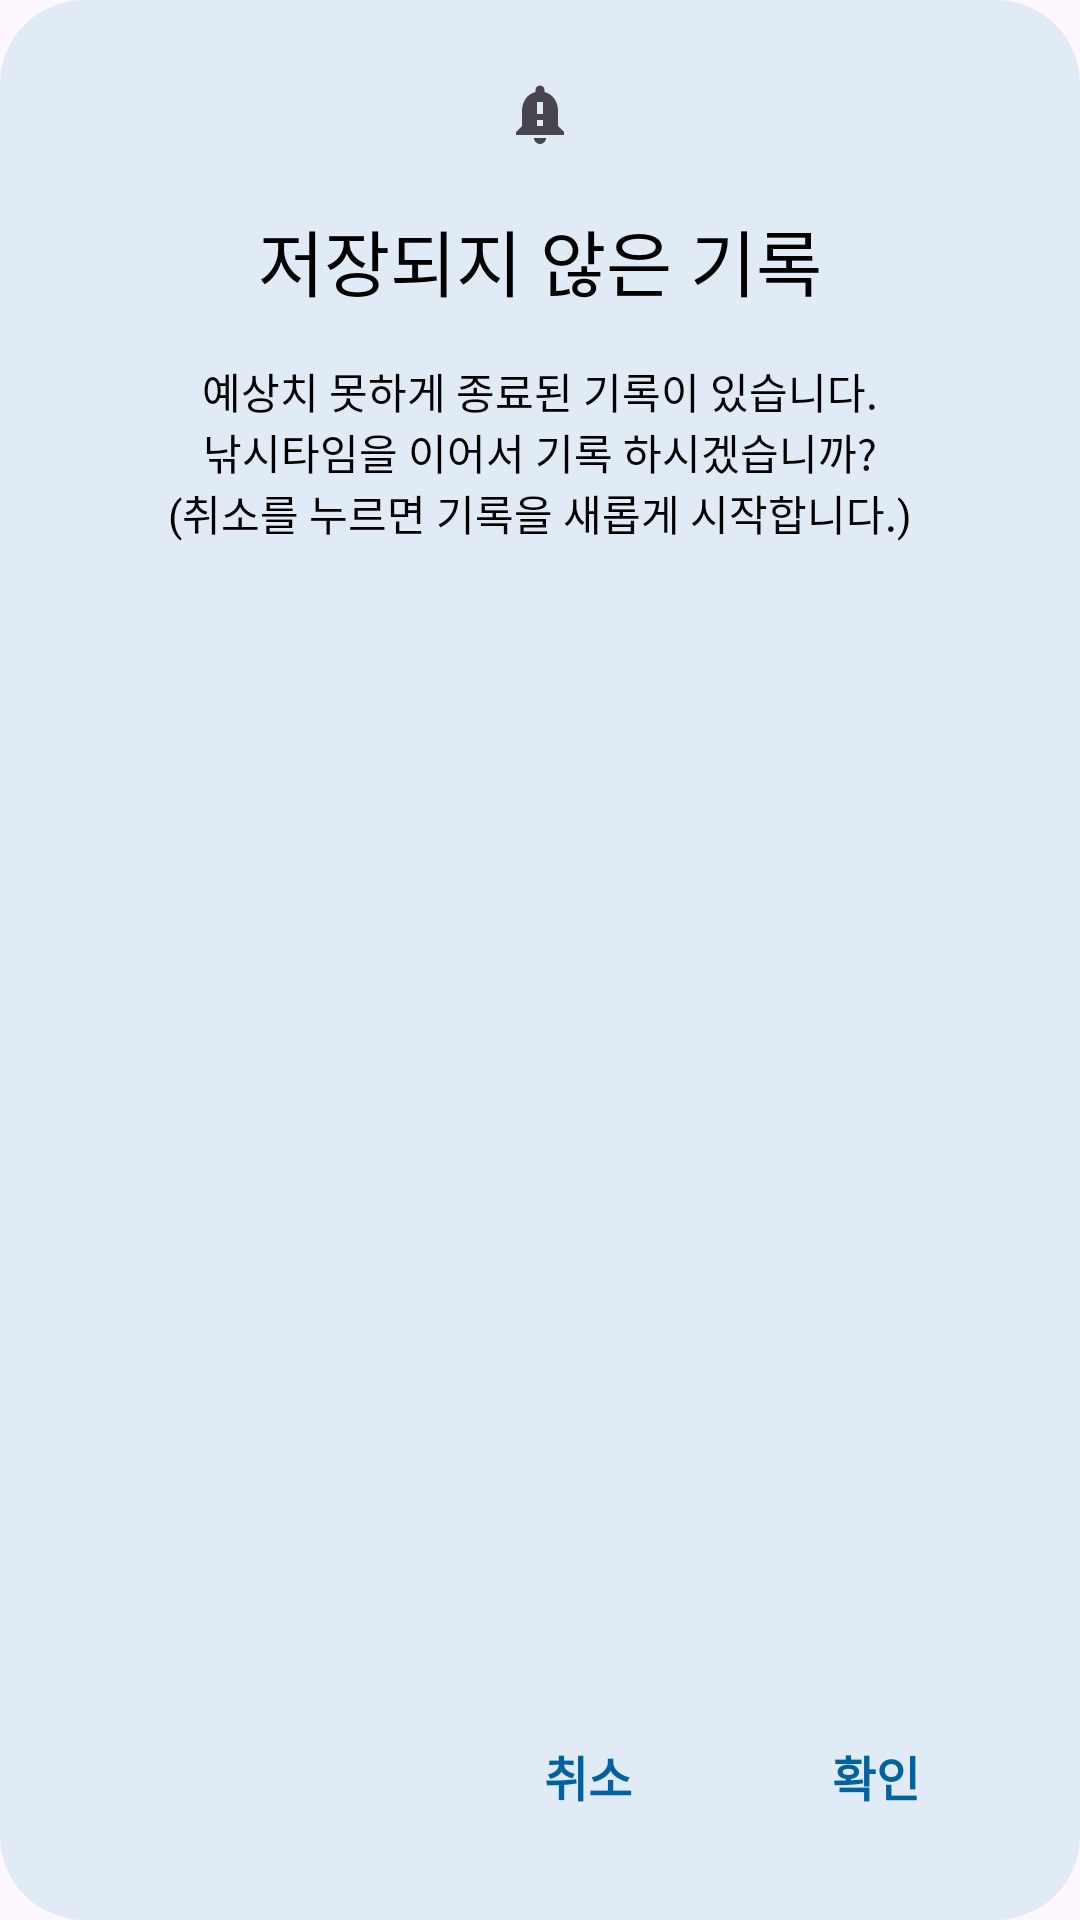

Screen size 1080×1920. Icon name, then its box in pixels as (x1, y1, x2, y2):
notification important: (516, 85, 564, 144)
